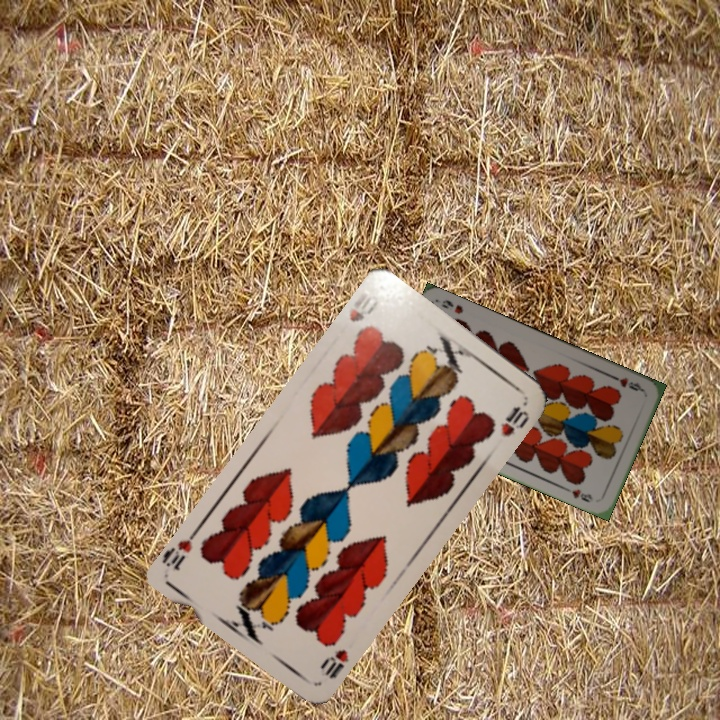H10: (344, 285, 382, 325), (316, 645, 352, 682)
H9: (608, 371, 647, 394)
